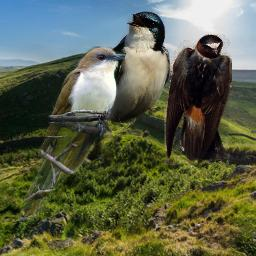Cuckoo: (16, 44, 125, 221)
Swallow: (64, 11, 170, 169), (164, 34, 232, 165)
